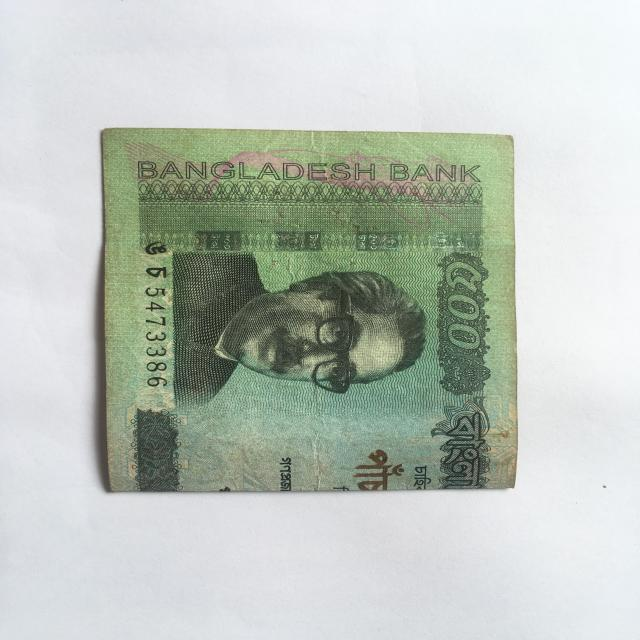Taka: (96, 119, 525, 499)
